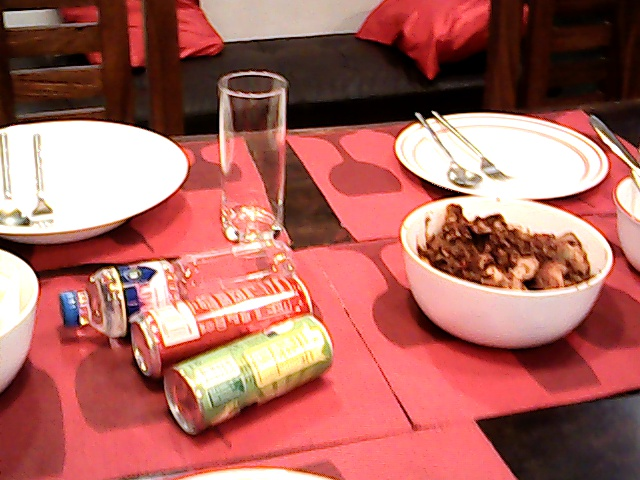Cola: (131, 294, 261, 345)
Pine Juice: (172, 341, 285, 431)
Summit Water: (54, 242, 201, 299)
